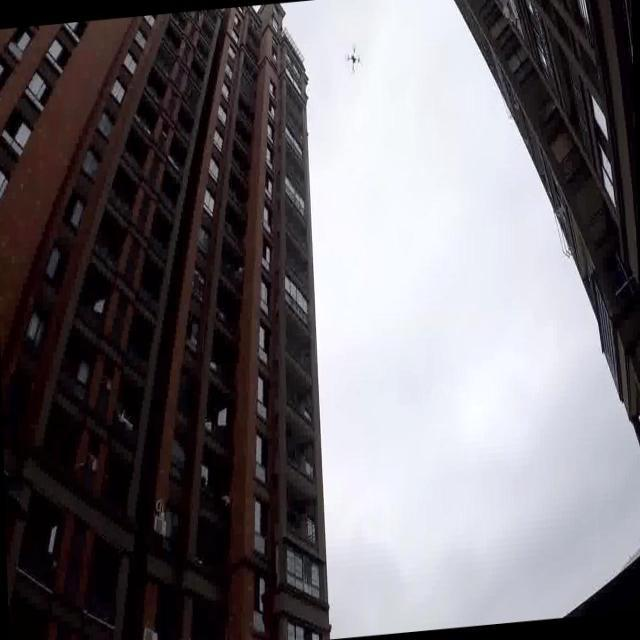drone: (343, 40, 363, 80)
